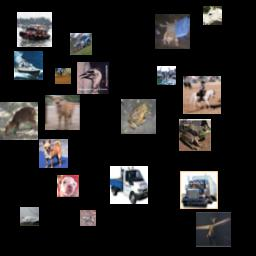airplane: (196, 212, 231, 247), (20, 207, 39, 226)
automobile: (70, 33, 92, 55)
bird: (77, 62, 109, 94)
cat: (155, 14, 190, 49)
deer: (0, 102, 38, 140), (45, 95, 80, 130), (157, 66, 176, 85), (80, 210, 96, 226)
dog: (39, 139, 68, 168), (57, 175, 79, 197)
frog: (121, 99, 156, 134), (179, 119, 211, 151)
ship: (17, 12, 52, 47), (14, 51, 43, 80)
truck: (180, 171, 218, 209), (110, 166, 148, 204)
